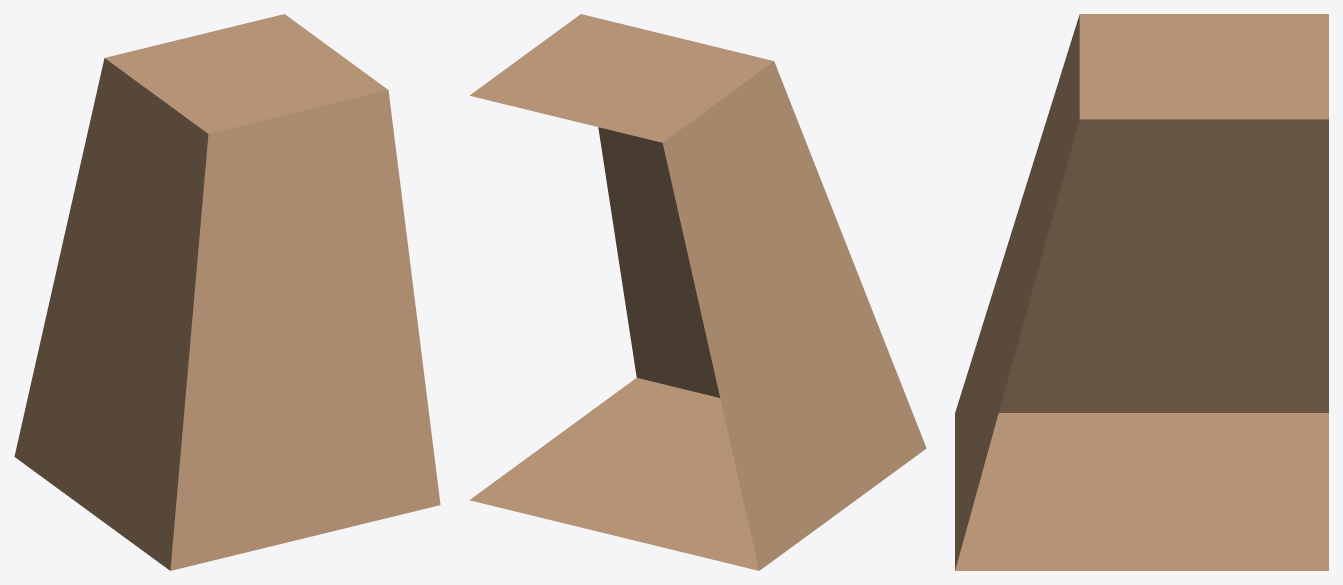
File: DungeonMiniCorner.fbx
The picture shows the model from 3 angles, left to right: view 1: azimuth 30°, elevation 25°; view 2: azimuth 150°, elevation 25°; view 3: azimuth 270°, elevation 25°; orthographic projection. The views are drawn at different scales.
Parts seen in each view (by area): view 1: MiniCorner; view 2: MiniCorner; view 3: MiniCorner.
Part boxes in pixels (x1,y1,x2,y2): MiniCorner: [14, 14, 440, 570]; MiniCorner: [469, 14, 926, 570]; MiniCorner: [955, 14, 1328, 570].
Bounding box in the file's own units: 150 × 200 × 150.
